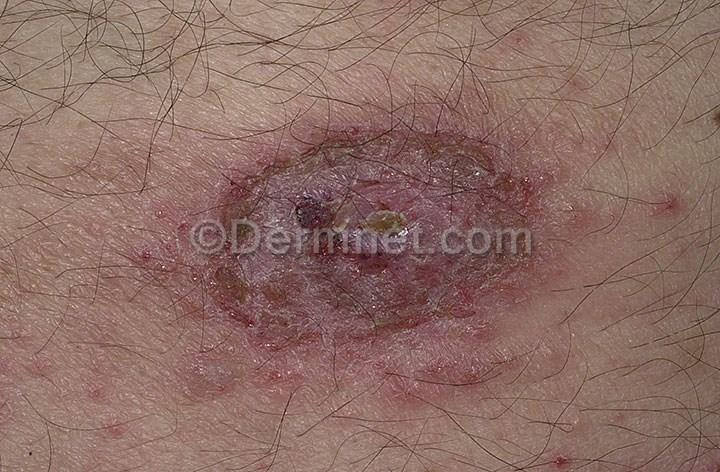Eczema: (216, 265, 522, 427), (207, 102, 555, 233), (551, 88, 720, 262), (79, 195, 218, 377), (66, 368, 164, 472), (6, 308, 73, 431), (535, 413, 622, 472)
